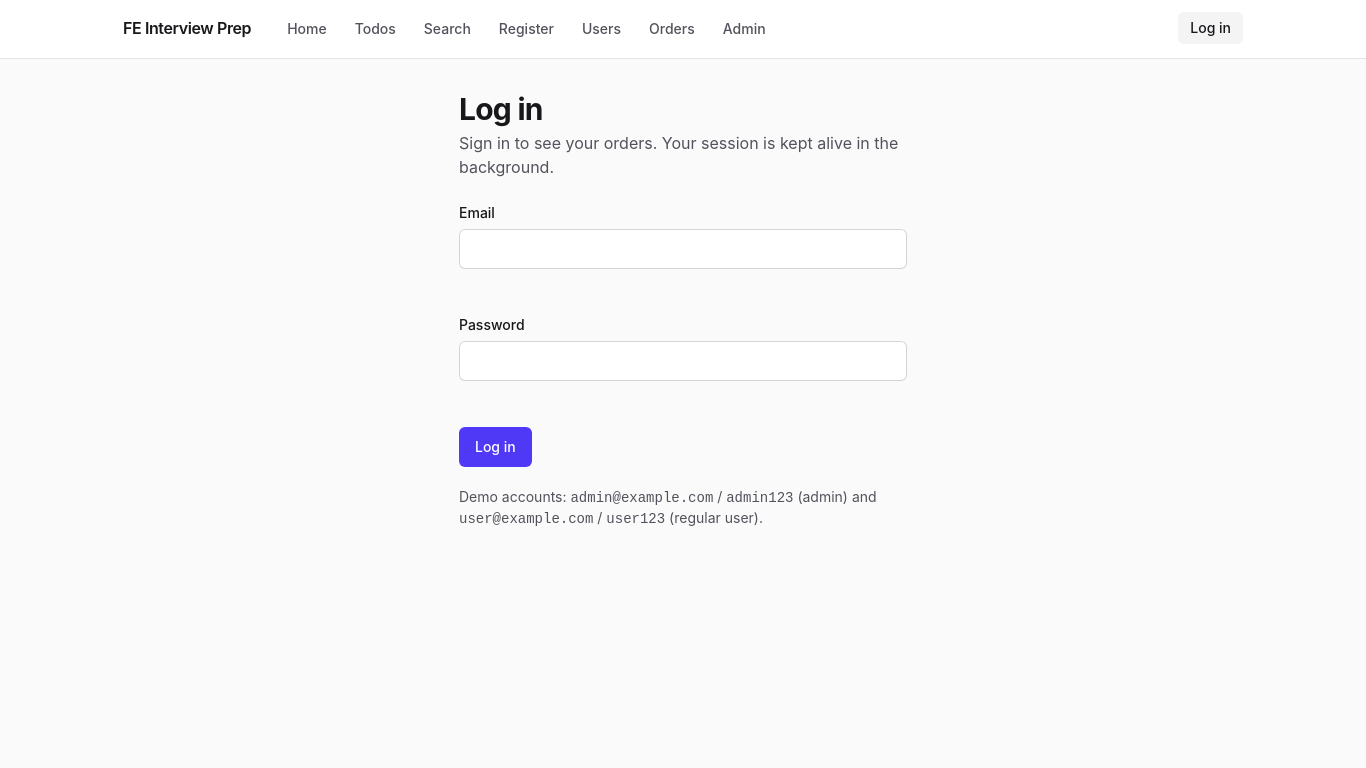
LoginPage › sends a signed-out visitor to login and back to the page they wanted
Expected: the heading "Log in" is shown, [459, 91, 543, 127]
In the field labelled "Email": (683, 249) [459, 229, 907, 269], type "user@example.com"
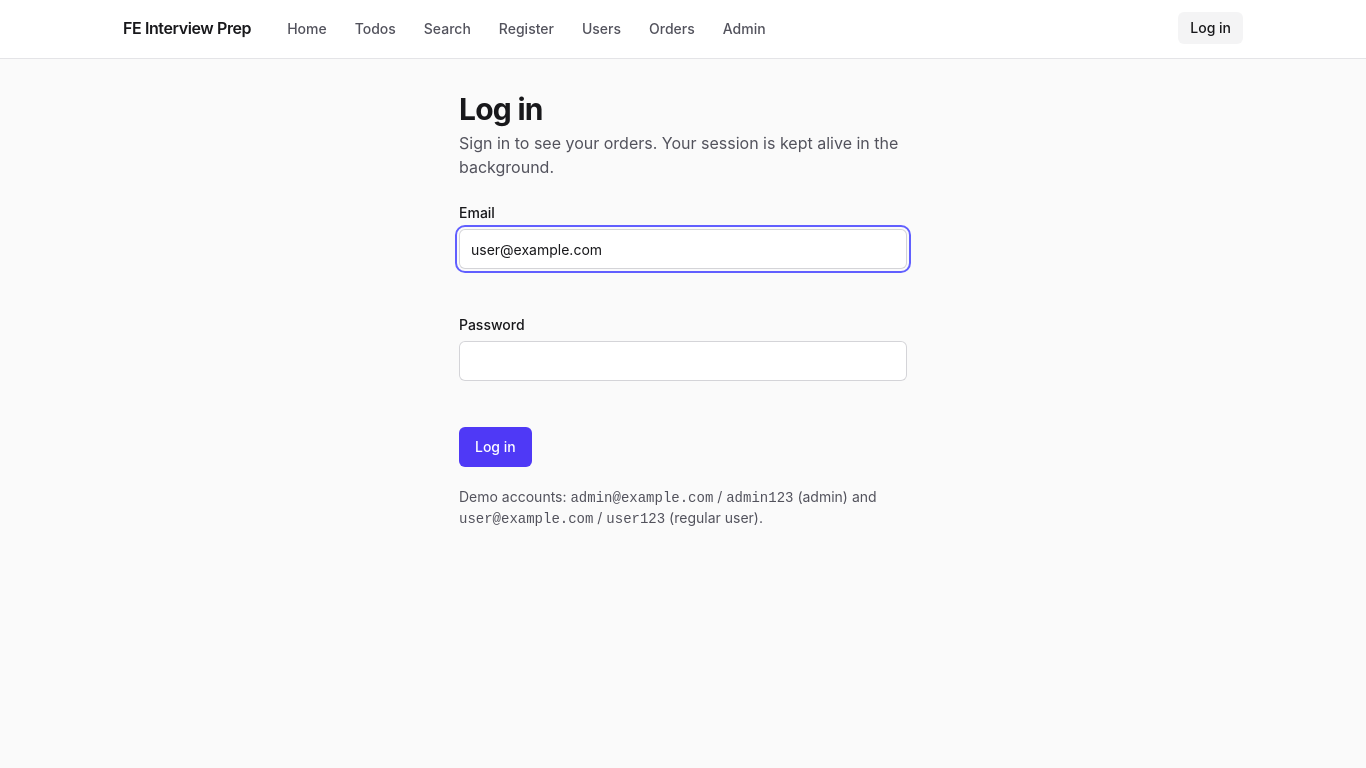
In the password field labelled "Password": (683, 361) [459, 341, 907, 381], type "user123"
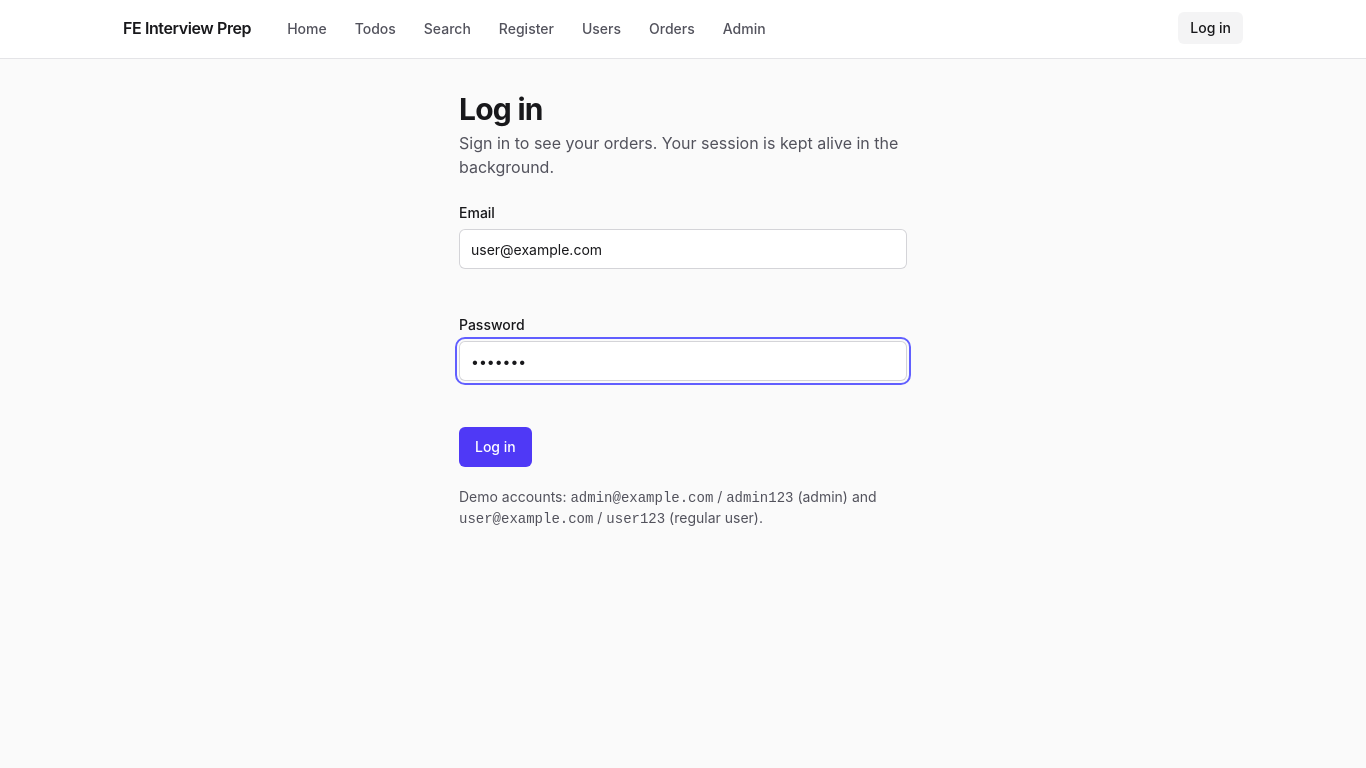
Click the button "Log in": (495, 447) [459, 427, 532, 467]
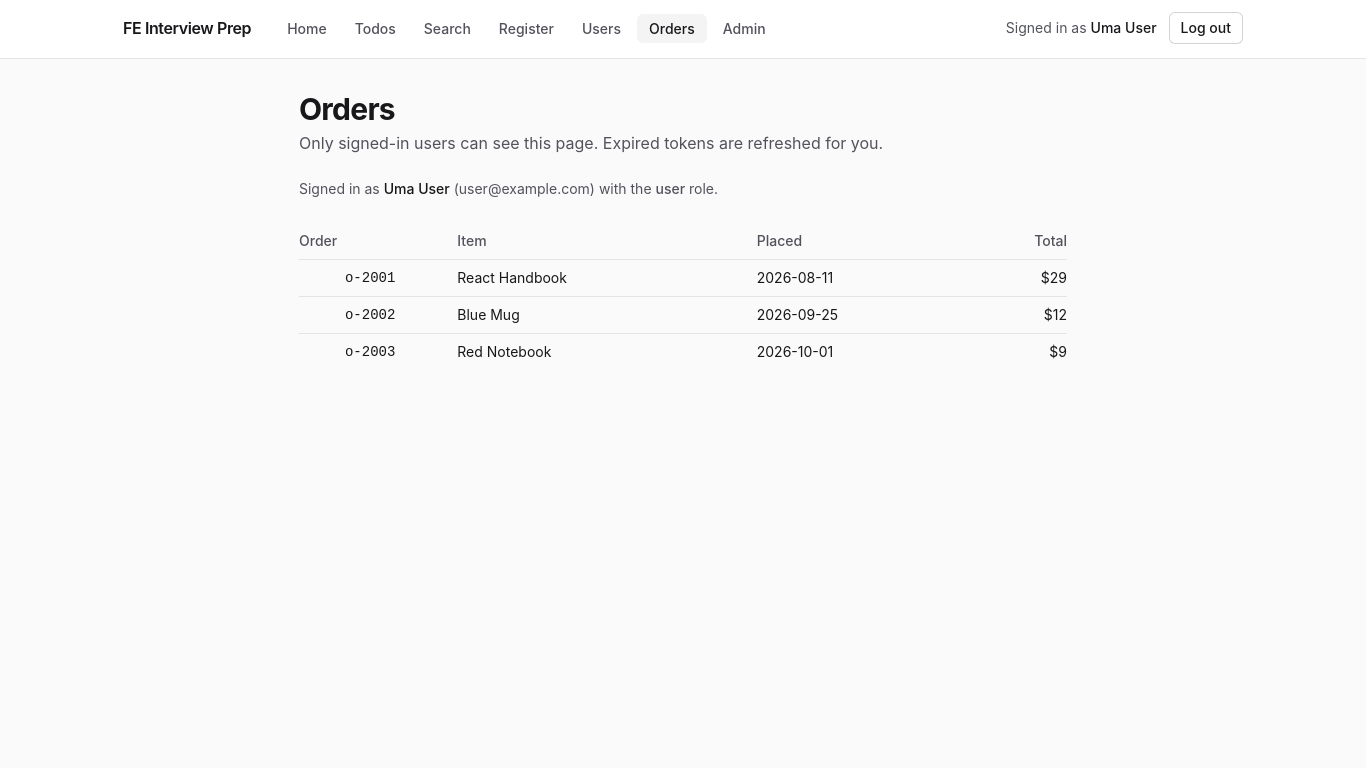
Expected: the heading "Orders" is shown, [299, 91, 395, 127]
Expected: the text "Signed in as Uma User" is shown, [1006, 18, 1156, 38]
Expected: the button "Log out" is shown, [1169, 12, 1243, 44]
